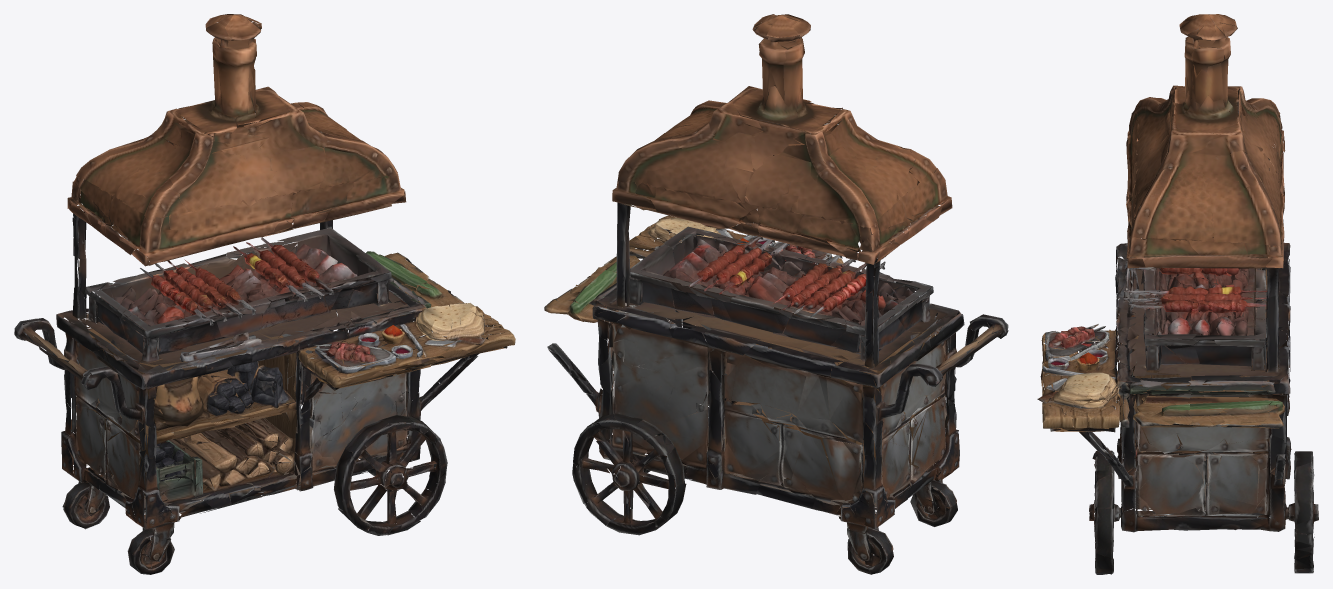
The model's file is KebabGrill.fbx.
The picture shows the model from 3 angles, left to right: view 1: azimuth 30°, elevation 25°; view 2: azimuth 150°, elevation 25°; view 3: azimuth 270°, elevation 25°; orthographic projection.
Parts seen in each view (by area): view 1: KebabGrill.010; view 2: KebabGrill.010; view 3: KebabGrill.010.
Boxes of the visible parts, x1,y1,x2,y2 form: KebabGrill.010: (14, 14, 515, 574); KebabGrill.010: (544, 14, 1008, 574); KebabGrill.010: (1037, 14, 1318, 574).
Size of the model in its own units: 2.51 by 3.1 by 1.58.
Materials: 1 (1 with a texture image).
